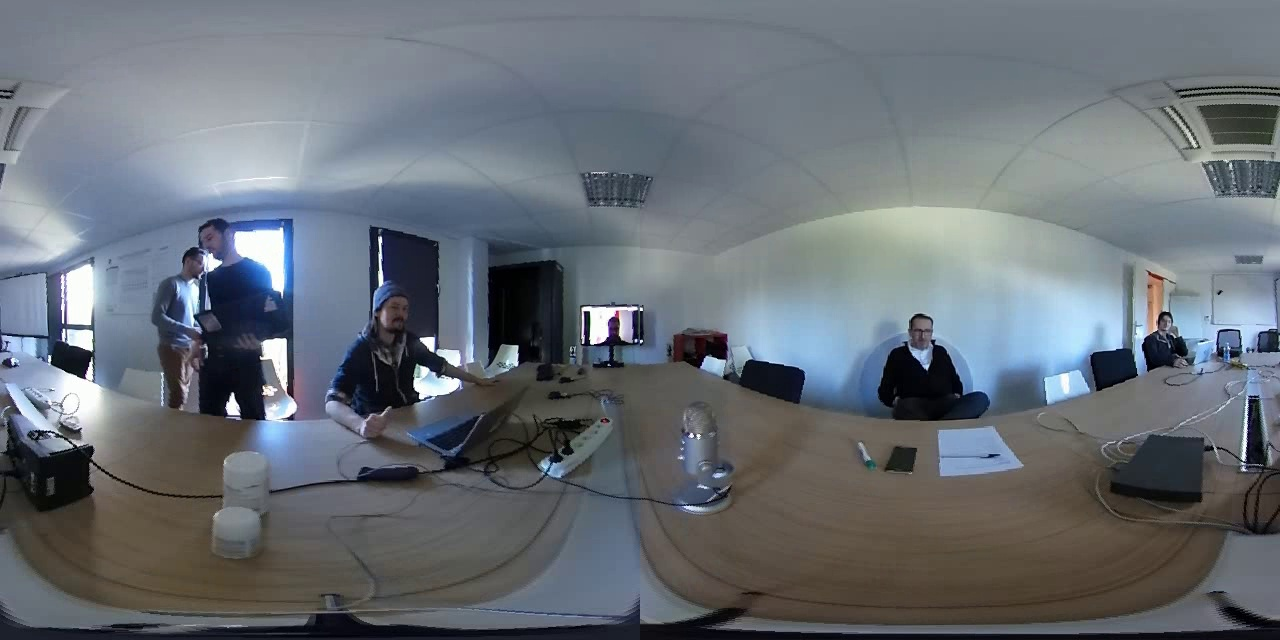person: (340, 270, 441, 422), (199, 212, 270, 401), (879, 295, 976, 418), (155, 237, 198, 377), (1135, 294, 1192, 365), (582, 303, 641, 341)
